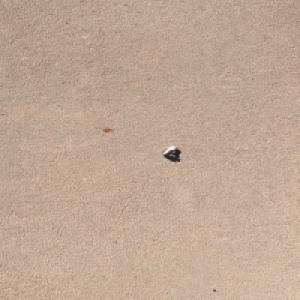MetalPart: (160, 145, 178, 158)
